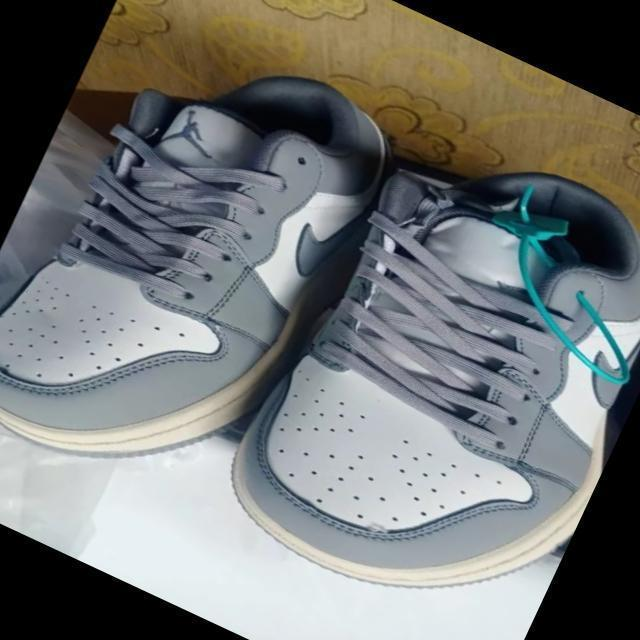nike fake jordan 1: (203, 93, 640, 640), (0, 0, 420, 537)
